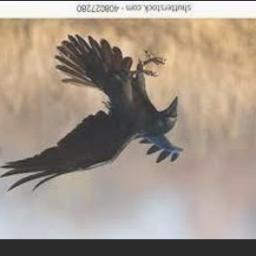Crow: (0, 34, 183, 194)
